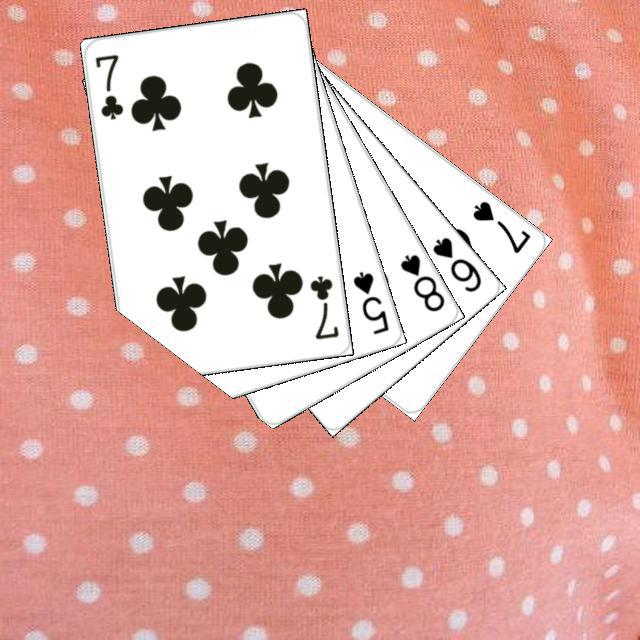5s: (348, 266, 391, 337)
6s: (427, 231, 483, 295)
7c: (305, 270, 341, 341), (90, 49, 125, 121)
7s: (467, 195, 532, 255)
8s: (395, 249, 447, 314)
